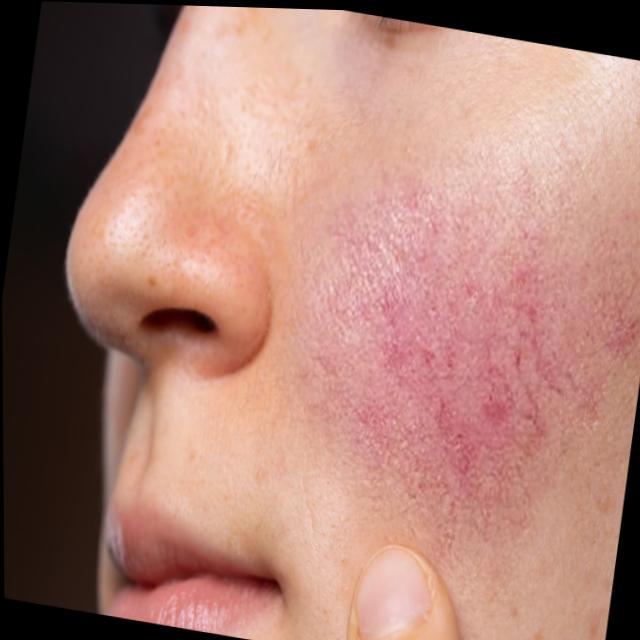skinredness: (269, 149, 640, 574)
vascular: (404, 271, 585, 516)
